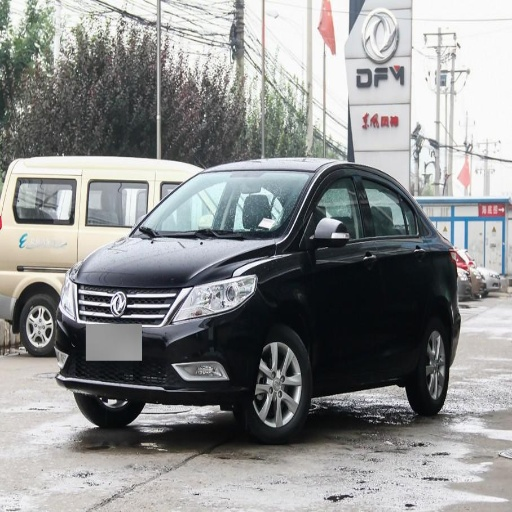front_bumper: (57, 280, 260, 408)
front_glass: (133, 170, 312, 238)
front_left_door: (305, 165, 385, 382)
